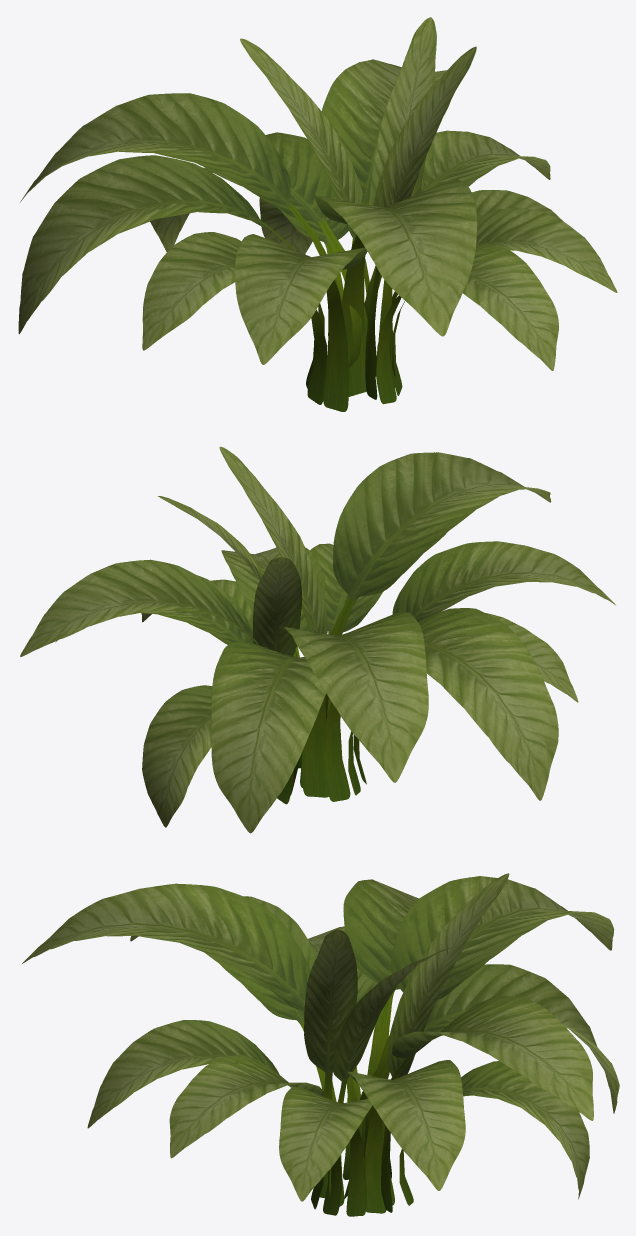
File: SM_VegetationD.fbx
The picture shows the model from 3 angles, top to bottom: view 1: azimuth 30°, elevation 25°; view 2: azimuth 150°, elevation 25°; view 3: azimuth 270°, elevation 25°; orthographic projection. The views are drawn at different scales.
Parts seen in each view (by area): view 1: SM_VegetationD_LOD0; view 2: SM_VegetationD_LOD0; view 3: SM_VegetationD_LOD0.
Part boxes in pixels (x1,y1,x2,y2): SM_VegetationD_LOD0: [18, 17, 617, 411]; SM_VegetationD_LOD0: [20, 446, 615, 833]; SM_VegetationD_LOD0: [22, 873, 619, 1216].
Size of the model in its own units: 138 by 137 by 82.41.
Materials: 1 (1 with a texture image).
